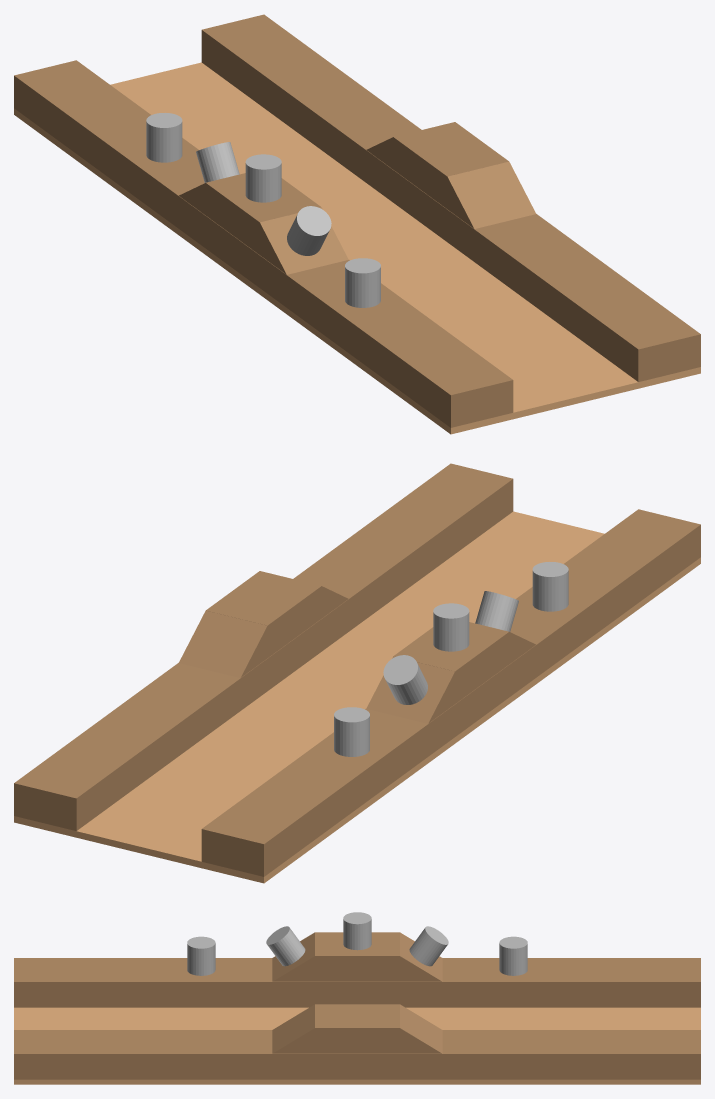
Rendered from RailsW.dae.
3 views of the same model, one above another, from view 1: azimuth 30°, elevation 25°; view 2: azimuth 150°, elevation 25°; view 3: azimuth 270°, elevation 25° (orthographic). The views are drawn at different scales.
Parts seen in each view (by area): view 1: Cube.006, Base, Base.001, Cube.004, Cube.002, Cube.001, Cube.003, Cylinder.004, Cylinder, Cylinder.003, Cylinder.002, Cylinder.001; view 2: Cube.006, Base, Base.001, Cube.004, Cube, Cube.001, Cube.005, Cylinder, Cylinder.004, Cylinder.003, Cylinder.001, Cylinder.002; view 3: Base, Base.001, Cube.006, Cube.004, Cube.001, Cube.002, Cube, Cube.003, Cube.005, Cylinder.004, Cylinder, Cylinder.003 (+2 smaller).
Boxes of the visible parts, x1,y1,x2,y2 form: Cube.006: (14,62,700,434); Base: (201,14,700,381); Base.001: (14,60,513,427); Cube.004: (393,122,508,208); Cube.002: (447,161,535,228); Cube.001: (205,173,321,254); Cube.003: (259,207,348,274); Cylinder.004: (146,113,182,162); Cylinder: (345,258,380,307); Cylinder.003: (245,154,281,202); Cylinder.002: (287,206,331,255); Cylinder.001: (196,142,239,182); Cube.006: (14,511,700,883); Base: (14,463,513,830); Base.001: (201,509,700,876); Cube.004: (206,571,321,657); Cube: (179,610,267,677); Cube.001: (393,622,509,703); Cube.005: (366,656,455,723); Cylinder: (532,562,568,611); Cylinder.004: (334,707,369,756); Cylinder.003: (433,603,469,651); Cylinder.001: (383,655,427,704); Cylinder.002: (475,591,518,631); Base: (14,1030,700,1079); Base.001: (14,958,700,1007); Cube.006: (14,1007,700,1084); Cube.004: (315,1004,399,1053); Cube.001: (315,932,399,981); Cube.002: (272,1004,314,1053); Cube: (400,1004,442,1053); Cube.003: (272,932,314,981); Cube.005: (400,932,442,981); Cylinder.004: (499,936,527,975); Cylinder: (187,936,215,975); Cylinder.003: (343,912,371,950).
Bounding box in the file's own units: 0.8 × 2.42 × 0.3209.
